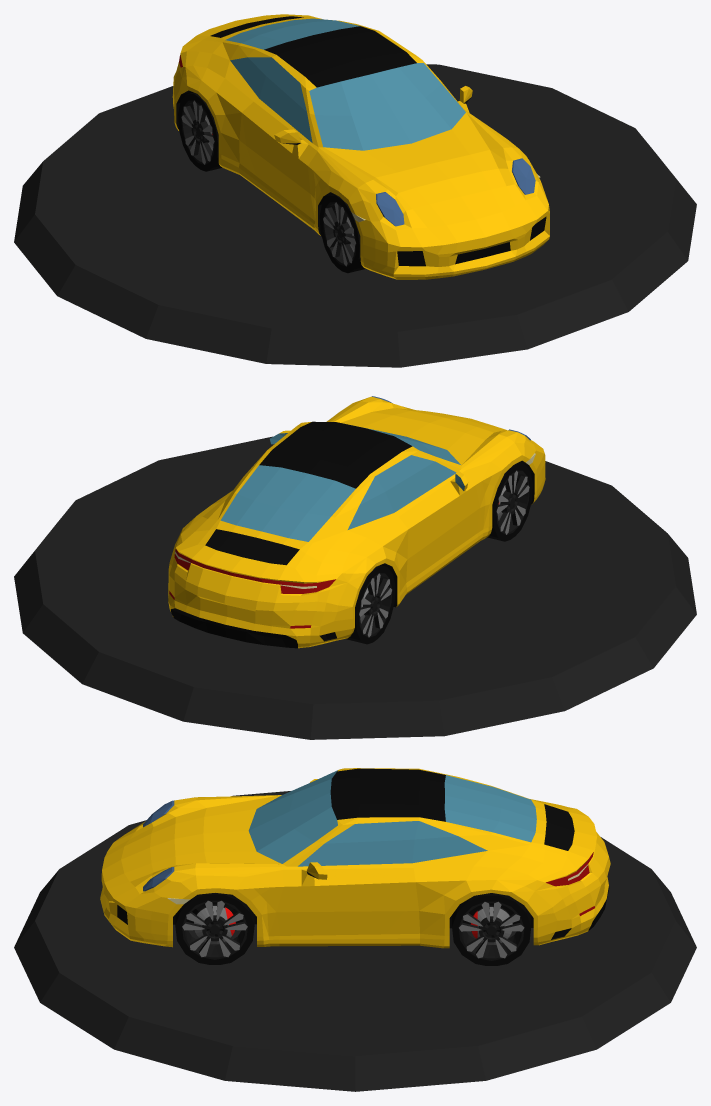
Rendered from Car.obj.
The picture shows the model from 3 angles, top to bottom: view 1: azimuth 30°, elevation 25°; view 2: azimuth 150°, elevation 25°; view 3: azimuth 270°, elevation 25°; orthographic projection.
Visible parts, largest first — view 1: Platform_Cylinder.001, Body_Car, FR_Wheel_Brakes.003, RR_Wheel_Brakes; view 2: Platform_Cylinder.001, Body_Car, RR_Wheel_Brakes, FR_Wheel_Brakes.003; view 3: Platform_Cylinder.001, Body_Car, RL_Wheel_Brakes.006, FL_Wheel_Brakes.007.
Part boxes in pixels (x1,y1,x2,y2): Platform_Cylinder.001: (14, 64, 696, 367); Body_Car: (172, 14, 549, 279); FR_Wheel_Brakes.003: (319, 194, 365, 273); RR_Wheel_Brakes: (178, 92, 222, 171); Platform_Cylinder.001: (14, 436, 696, 739); Body_Car: (168, 396, 545, 648); RR_Wheel_Brakes: (345, 565, 395, 644); FR_Wheel_Brakes.003: (487, 463, 532, 541); Platform_Cylinder.001: (14, 791, 696, 1091); Body_Car: (100, 768, 610, 948); RL_Wheel_Brakes.006: (452, 893, 531, 965); FL_Wheel_Brakes.007: (175, 893, 254, 964).
Size of the model in its own units: 5.69 by 1.46 by 5.69.
